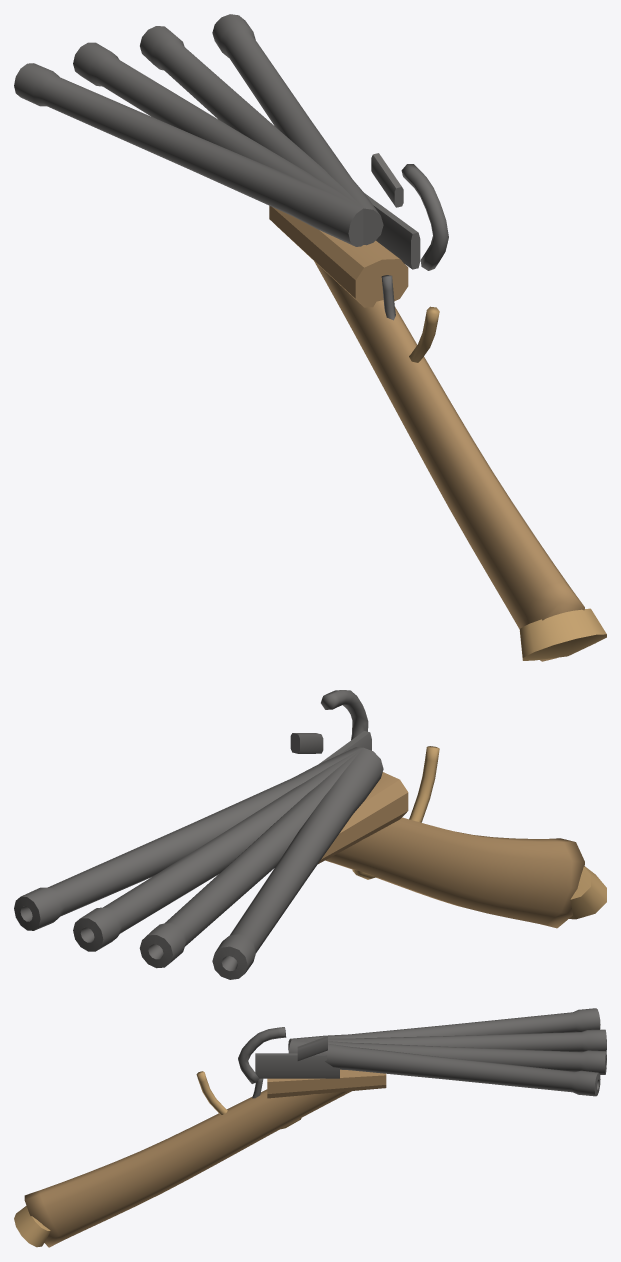
File: paddle-foot-pistol.glb
3 renders of one model, top to bottom at view 1: azimuth 30°, elevation 25°; view 2: azimuth 150°, elevation 25°; view 3: azimuth 270°, elevation 25°, orthographic. The views are drawn at different scales.
Parts seen in each view (by area): view 1: paddle-foot-pistol; view 2: paddle-foot-pistol; view 3: paddle-foot-pistol.
Part boxes in pixels (<box>): paddle-foot-pistol: <box>14,14,606,661</box>; paddle-foot-pistol: <box>14,690,606,979</box>; paddle-foot-pistol: <box>14,1008,606,1247</box>.
Bounding box in the file's own units: 0.29 × 0.4197 × 0.9776.
